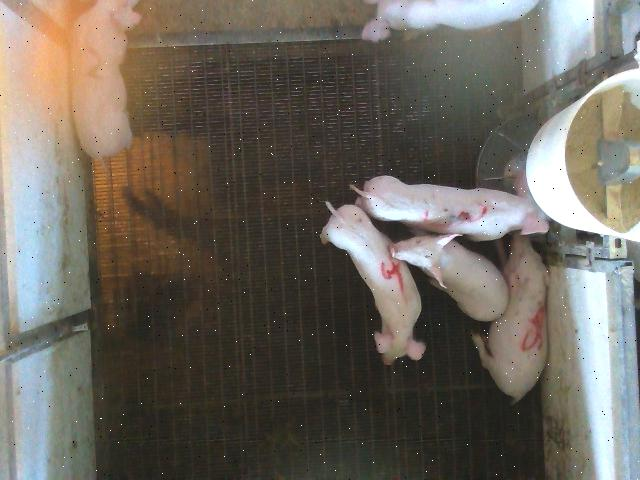pig-2: (70, 1, 140, 160)
pig-3: (351, 171, 549, 241)
pig-4: (321, 202, 425, 365)
pig-5: (472, 234, 548, 402)
